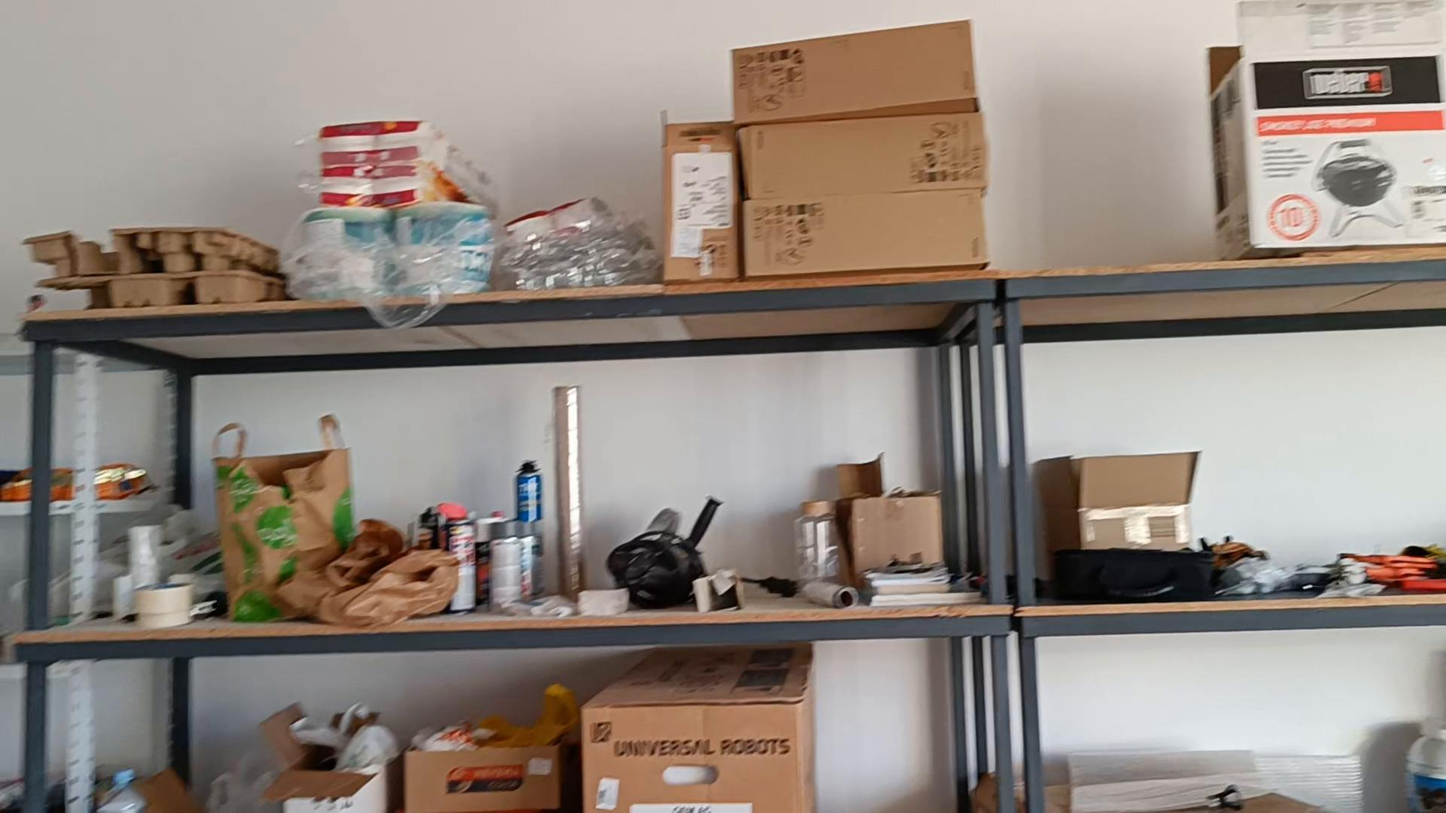wall: (5, 0, 972, 235), (201, 359, 934, 553), (1023, 336, 1441, 532), (972, 13, 1225, 266)
